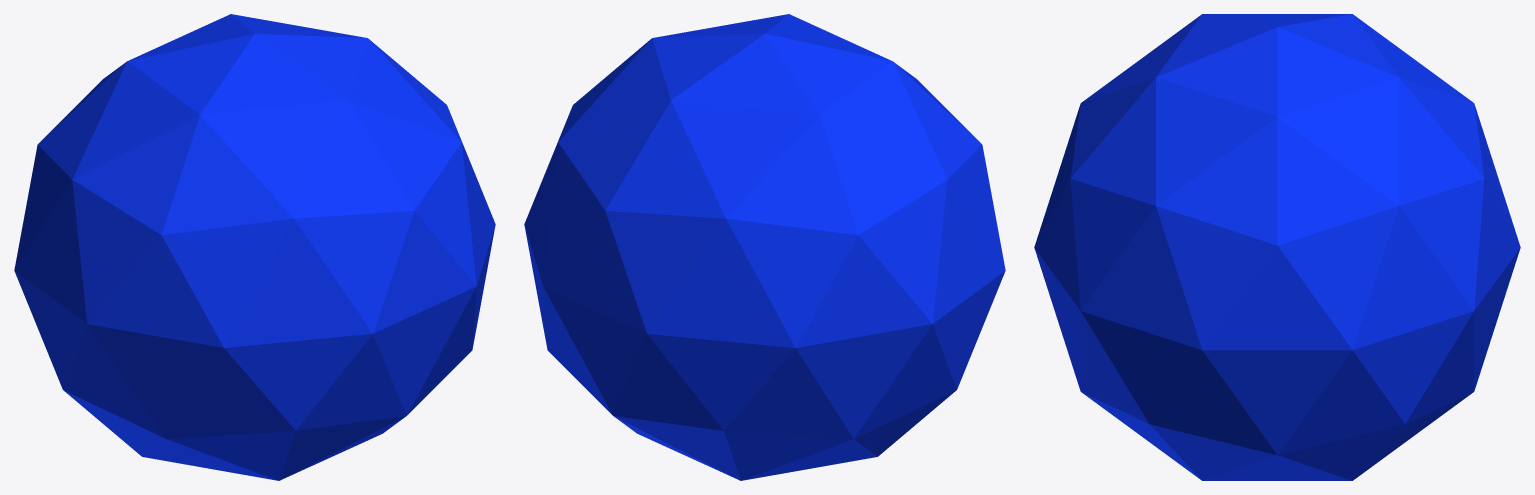
The model's file is missile.obj.
The picture shows the model from 3 angles, left to right: view 1: azimuth 30°, elevation 25°; view 2: azimuth 150°, elevation 25°; view 3: azimuth 270°, elevation 25°; orthographic projection. The views are drawn at different scales.
Parts seen in each view (by area): view 1: Esfera_icosaédrica; view 2: Esfera_icosaédrica; view 3: Esfera_icosaédrica.
Boxes of the visible parts, x1,y1,x2,y2 form: Esfera_icosaédrica: [14, 14, 495, 480]; Esfera_icosaédrica: [524, 14, 1005, 480]; Esfera_icosaédrica: [1034, 14, 1520, 480].
Size of the model in its own units: 0.5 by 0.5 by 0.5.
Materials: 1 (1 with a texture image).
